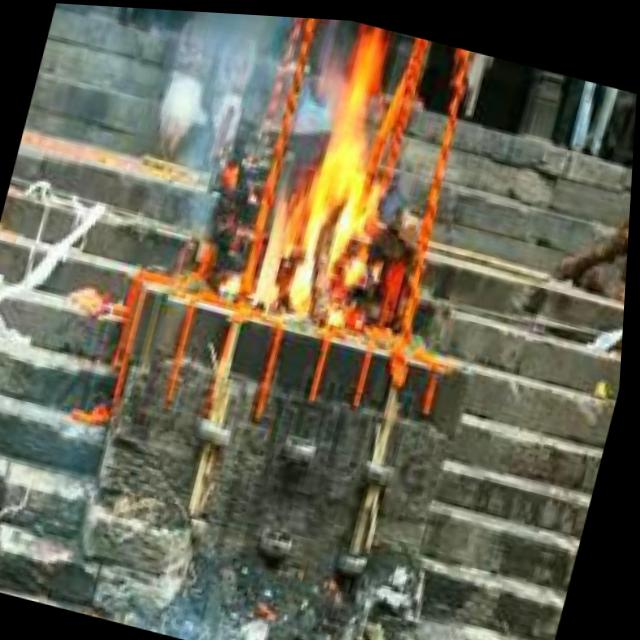Fire: (241, 12, 430, 323)
